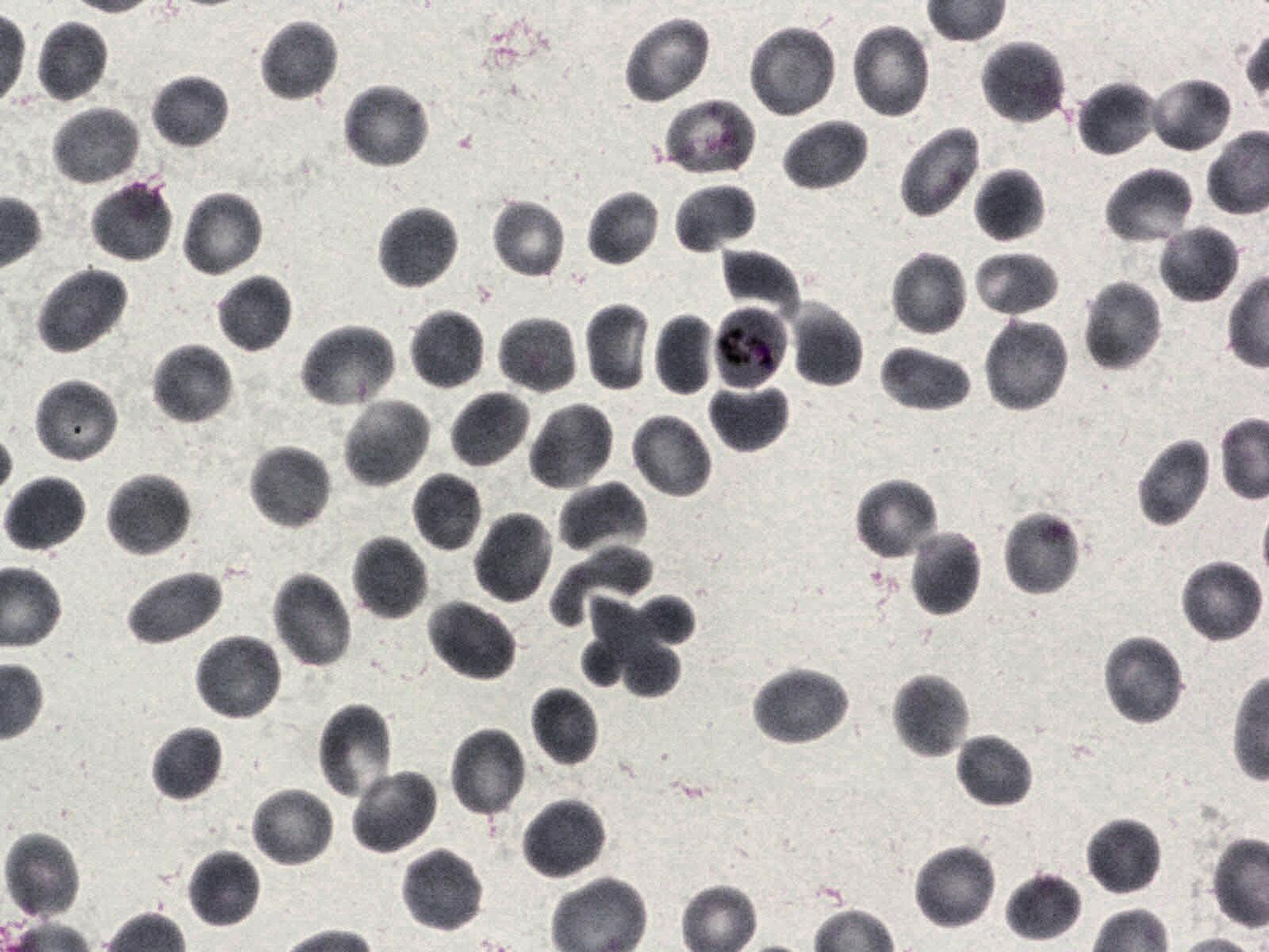Infected: (712, 304, 791, 389)
Uninfected: (583, 595, 694, 697), (297, 321, 400, 409), (34, 263, 130, 356), (746, 25, 838, 120), (525, 398, 617, 493), (898, 123, 984, 224), (340, 395, 432, 489), (316, 703, 399, 805), (983, 317, 1070, 414), (194, 631, 285, 723), (849, 22, 933, 121), (30, 375, 119, 468), (270, 572, 354, 670), (348, 768, 437, 859), (1, 826, 88, 919), (751, 667, 850, 748), (623, 15, 711, 106), (340, 83, 430, 171), (1102, 634, 1187, 727), (472, 510, 555, 605), (979, 38, 1068, 126), (105, 471, 194, 559), (247, 443, 335, 532), (627, 411, 714, 501), (125, 568, 224, 647), (519, 795, 608, 882), (1082, 280, 1164, 374), (661, 97, 756, 178), (148, 341, 236, 428), (399, 846, 485, 935), (912, 843, 998, 931), (554, 482, 649, 561), (1179, 559, 1265, 646), (87, 177, 173, 264), (180, 190, 264, 279), (447, 727, 528, 819), (777, 117, 872, 195), (376, 205, 461, 292), (249, 785, 337, 869), (853, 478, 940, 562), (49, 103, 139, 184), (890, 672, 971, 762), (349, 534, 430, 623), (427, 596, 517, 676), (1143, 74, 1233, 154), (888, 251, 969, 339), (1002, 510, 1082, 599), (583, 302, 659, 395), (1156, 222, 1241, 305), (449, 390, 534, 472), (552, 547, 650, 618), (495, 314, 578, 397), (407, 307, 487, 392), (1074, 79, 1160, 158), (2, 475, 88, 554), (911, 531, 983, 625), (971, 248, 1061, 323), (259, 20, 340, 103), (704, 377, 790, 455), (877, 344, 971, 415), (673, 181, 758, 259), (1003, 868, 1087, 946), (33, 19, 109, 105), (1083, 816, 1163, 897), (214, 272, 293, 354), (489, 198, 568, 280), (148, 74, 230, 152), (953, 731, 1033, 810), (789, 300, 858, 390), (585, 190, 662, 270), (719, 247, 807, 317), (401, 464, 479, 542), (1106, 171, 1192, 241), (186, 850, 262, 929), (150, 724, 224, 804), (654, 310, 721, 397), (975, 169, 1053, 243), (1140, 446, 1208, 528), (530, 691, 596, 763)
